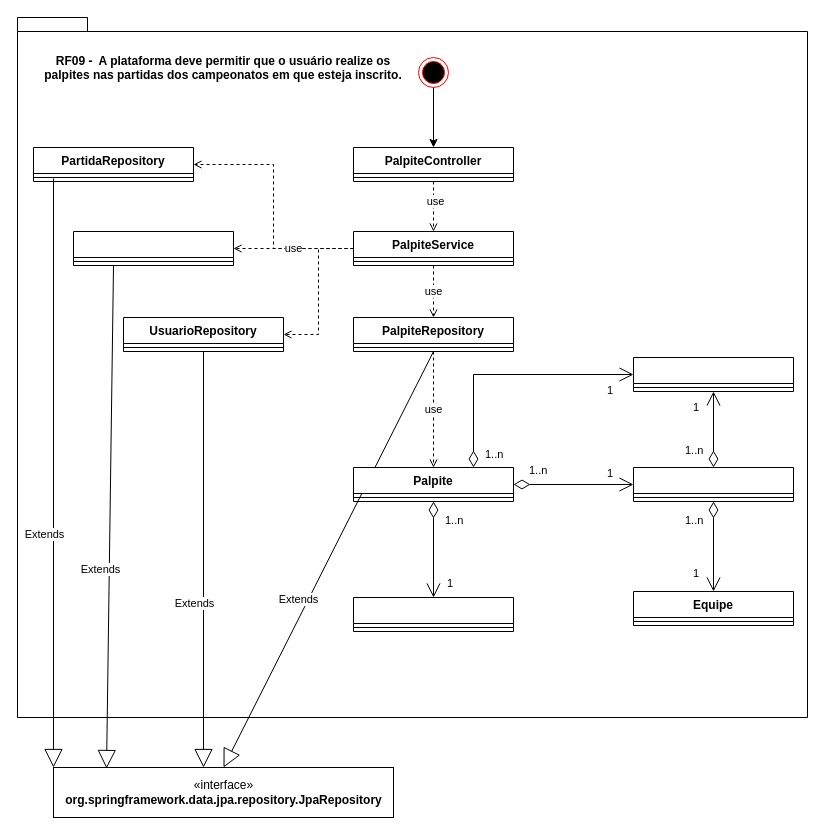
Some shapes in this 825 by 835 pixel diagram are drawn without their labels. Each missing label, with the box of its shape:
Liga: (632, 356, 794, 392)
LigaRepository: (72, 230, 234, 266)
Partida: (632, 466, 794, 502)
usuario: (352, 596, 514, 632)
